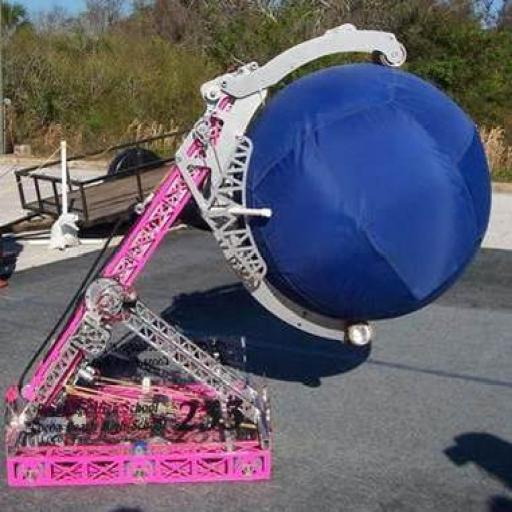robot: (12, 26, 488, 485)
